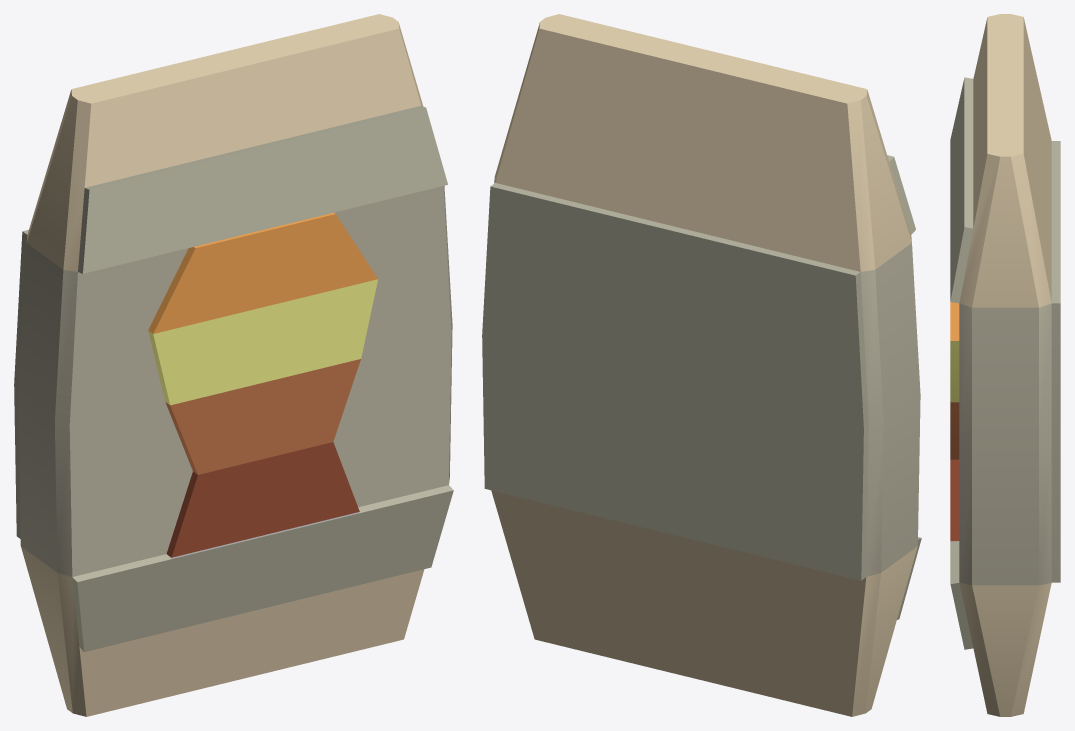
Rendered from HandWarmer.fbx.
3 views of the same model, side by side, from view 1: azimuth 30°, elevation 25°; view 2: azimuth 150°, elevation 25°; view 3: azimuth 270°, elevation 25° (orthographic). The views are drawn at different scales.
Visible parts, largest first — view 1: HandWarmer; view 2: HandWarmer; view 3: HandWarmer.
Part boxes in pixels (left/top/right/bottom): HandWarmer: left=14, top=14, right=453, bottom=716; HandWarmer: left=482, top=14, right=921, bottom=716; HandWarmer: left=950, top=14, right=1060, bottom=716.
Bounding box in the file's own units: 35.92 × 52.82 × 9.49.
